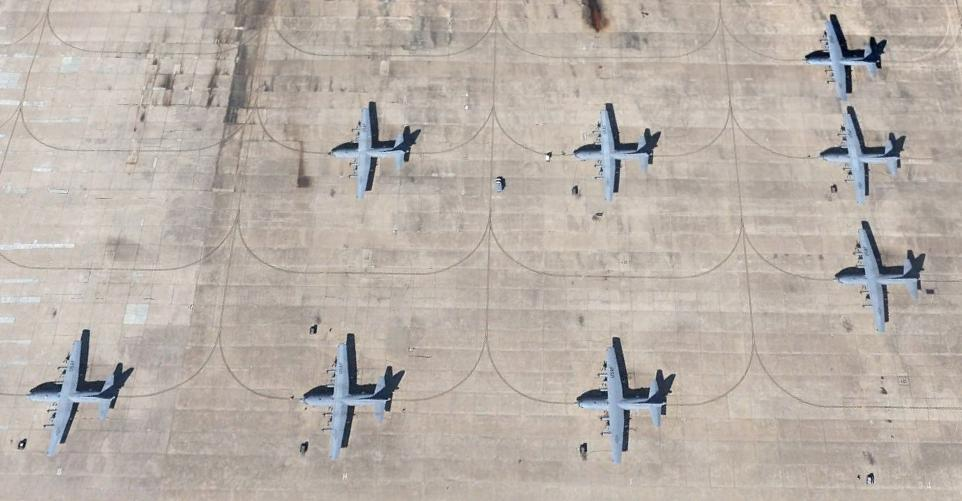C-130: (302, 338, 399, 457), (27, 336, 123, 448), (834, 216, 926, 331), (574, 343, 666, 457), (815, 110, 907, 203), (572, 100, 655, 203), (800, 10, 888, 104), (327, 102, 412, 197)
